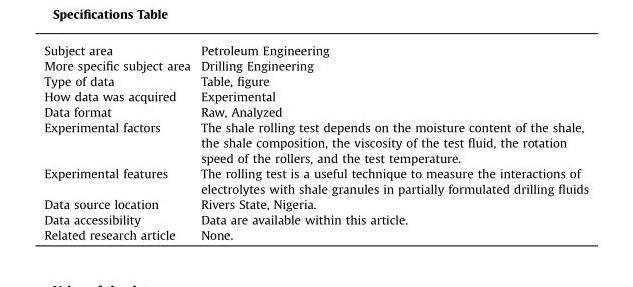table: (43, 42, 588, 241)
table column: (194, 42, 588, 241), (43, 42, 194, 241)
table row: (43, 119, 588, 165), (43, 165, 588, 196), (43, 57, 588, 73), (43, 103, 588, 119), (43, 42, 588, 57), (43, 73, 588, 88), (43, 88, 588, 103), (43, 196, 588, 211), (43, 211, 588, 226), (43, 226, 588, 241)
